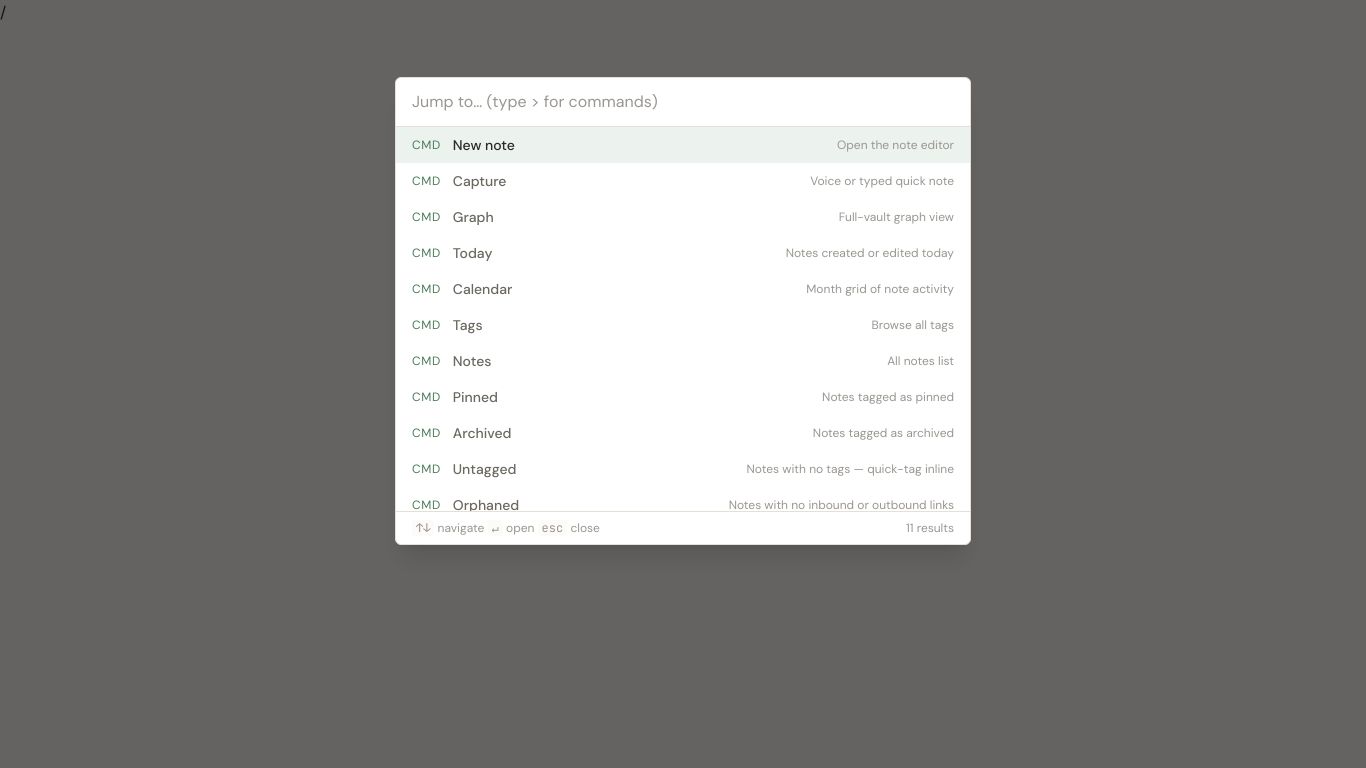
QuickSwitch › > prefix surfaces commands — typing '>new' jumps to /new on Enter
Step 1. Type ">new" into the field named "quick switch query" → x=683, y=102, box [396,78,970,127]
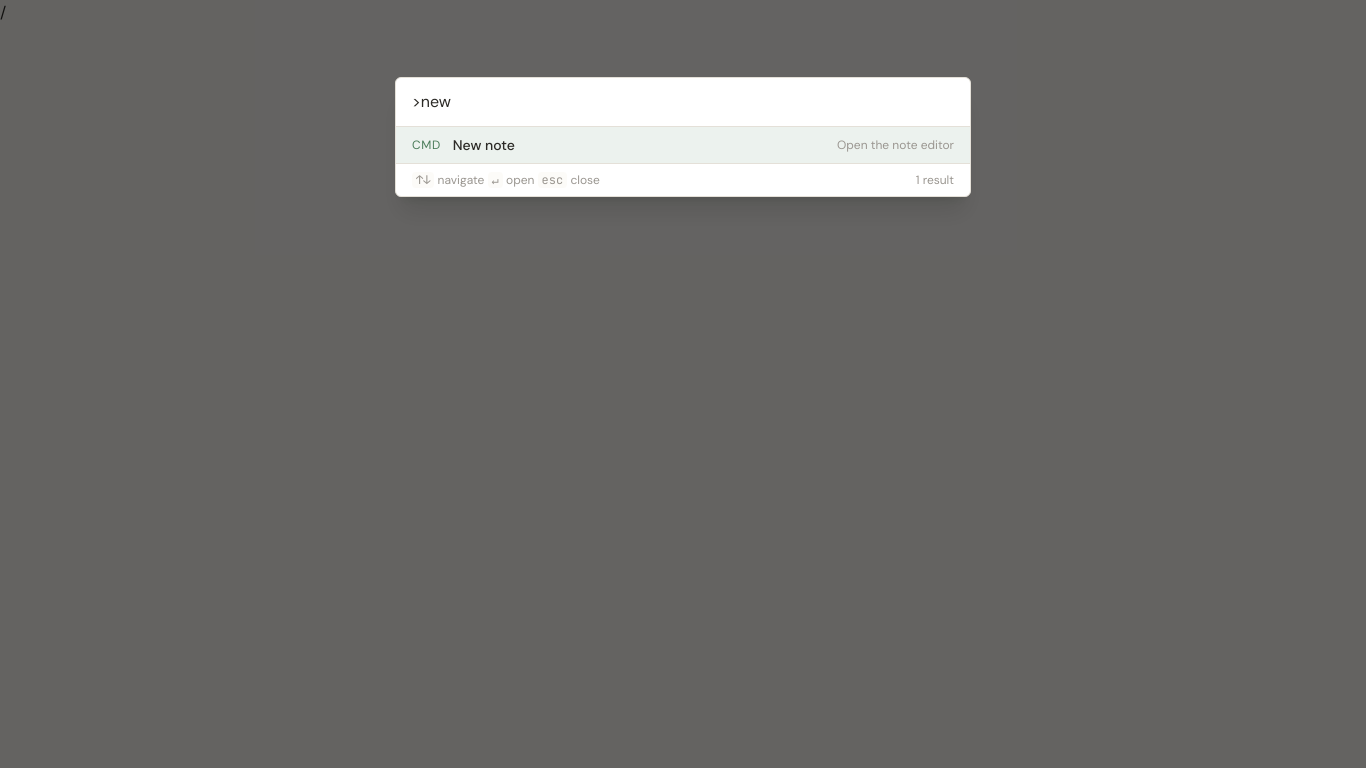
Step 2. Press Enter in the field named "quick switch query", box [396,78,970,127]
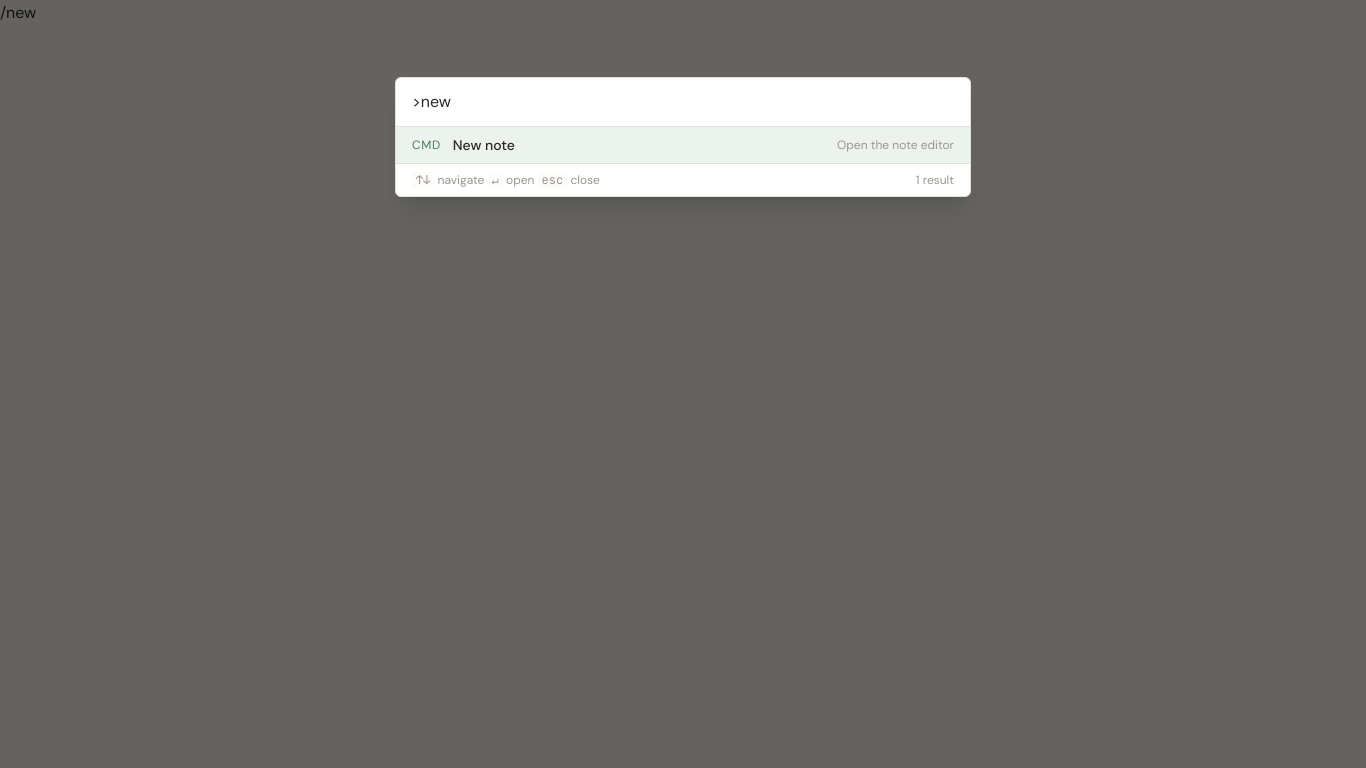
Now the text with test id "location" reads "/new", box [0,2,36,23]
